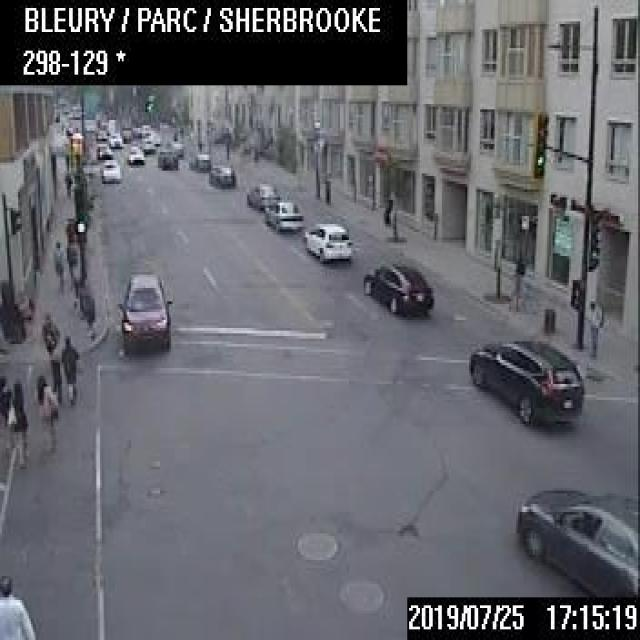pedestrian: (0, 574, 35, 638), (59, 334, 78, 406), (40, 384, 57, 448), (12, 404, 28, 464), (40, 311, 58, 357), (78, 286, 95, 334), (587, 297, 598, 355), (51, 240, 63, 291), (49, 341, 60, 394), (65, 236, 77, 283), (10, 376, 22, 421), (0, 376, 9, 424), (514, 256, 524, 298), (36, 372, 46, 408), (63, 170, 71, 196)
vehicle: (513, 482, 638, 594), (468, 336, 588, 429), (114, 269, 172, 352), (360, 259, 432, 316), (302, 221, 351, 260), (264, 198, 302, 230), (246, 180, 278, 208), (208, 161, 234, 187), (99, 157, 120, 180), (187, 150, 209, 170), (156, 148, 176, 169), (126, 144, 143, 162), (95, 142, 112, 158), (107, 130, 121, 146), (140, 135, 154, 151), (147, 131, 159, 144)
